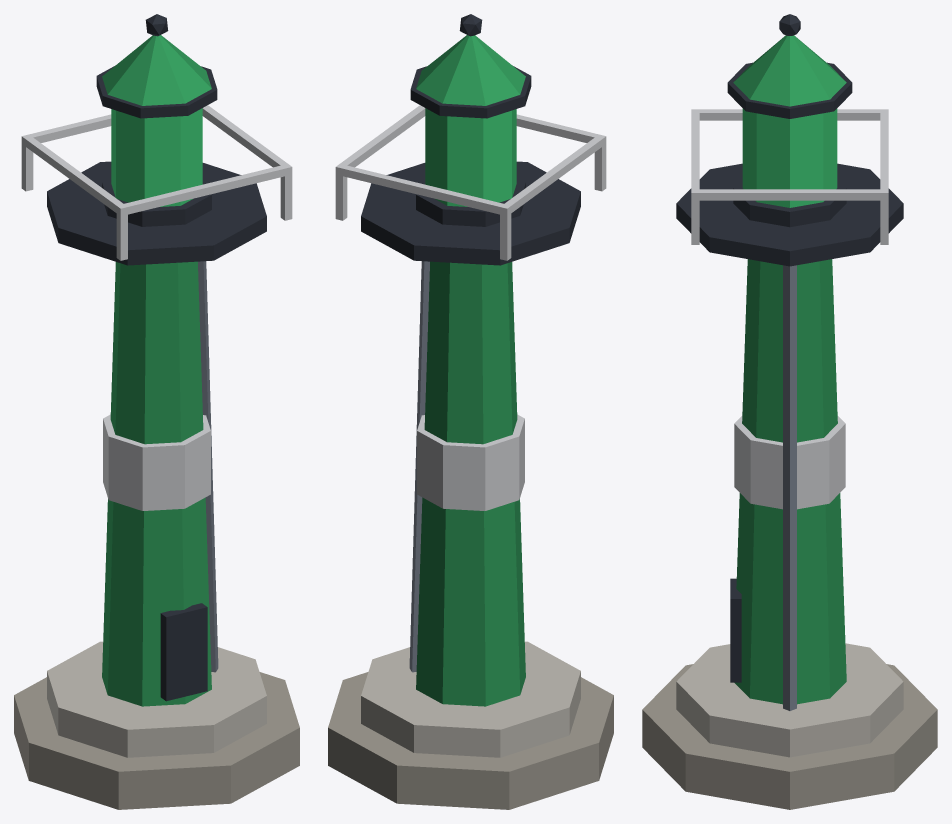
Rendered from light_green.glb.
3 views of the same model, side by side, from view 1: azimuth 30°, elevation 25°; view 2: azimuth 150°, elevation 25°; view 3: azimuth 270°, elevation 25° (orthographic).
Visible parts, largest first — view 1: pole, lamp; view 2: pole, lamp; view 3: pole, lamp.
Boxes of the visible parts, box(x1,y1,x2,y2) form: pole: box(14, 105, 299, 809); lamp: box(96, 14, 217, 226); pole: box(328, 105, 613, 809); lamp: box(410, 14, 531, 226); pole: box(642, 109, 937, 809); lamp: box(727, 14, 852, 227).
Size of the model in its own units: 2.11 by 5.77 by 2.11.
